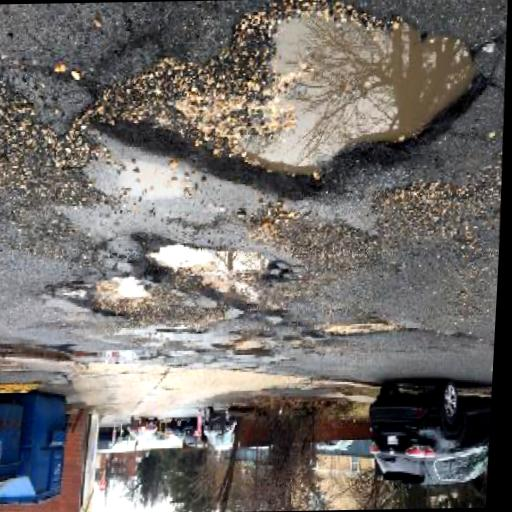pothole: (78, 1, 497, 210), (132, 226, 300, 318), (66, 274, 161, 324), (326, 324, 409, 342), (230, 339, 267, 359)
